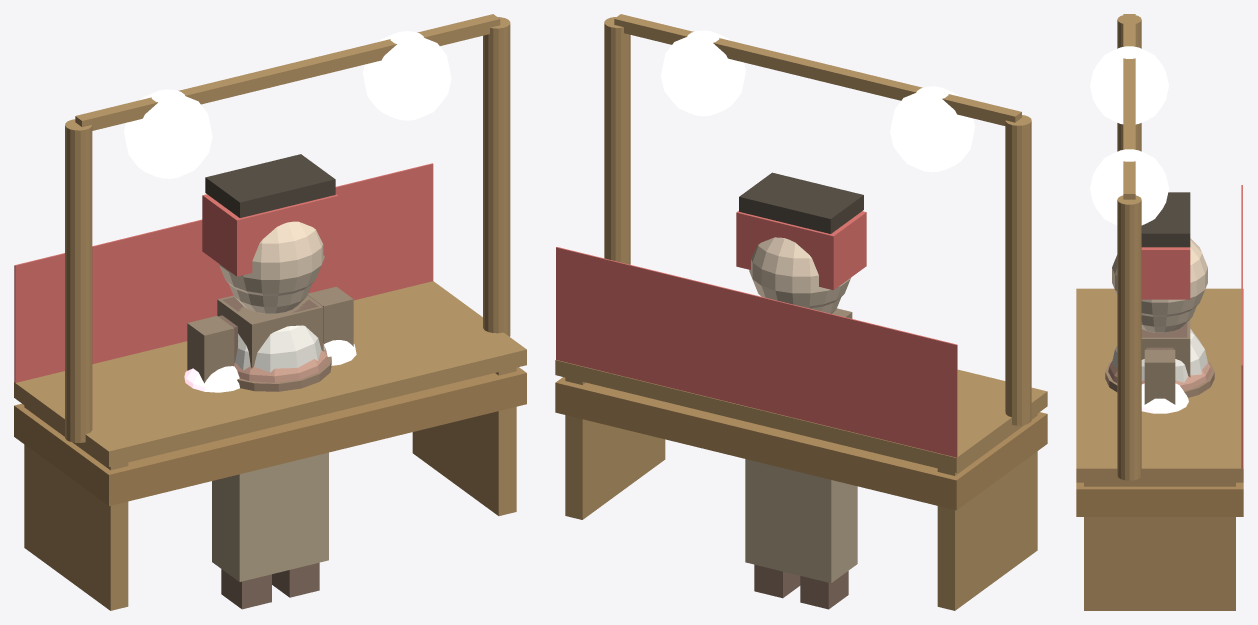
The picture shows the model from 3 angles, left to right: view 1: azimuth 30°, elevation 25°; view 2: azimuth 150°, elevation 25°; view 3: azimuth 270°, elevation 25°; orthographic projection. The views are drawn at different scales.
Visible parts, largest first — view 1: stall, customer_b, customer_a, item_rice, item_candy, item_sweetpotato, customer_c; view 2: stall, customer_b, customer_a; view 3: stall, customer_a, customer_b, item_rice, item_candy, customer_c, item_sweetpotato.
Boxes of the visible parts, x1=… form: stall: x1=14, y1=14, x2=526, y2=610; customer_b: x1=202, y1=194, x2=338, y2=581; customer_a: x1=187, y1=154, x2=353, y2=609; item_rice: x1=235, y1=325, x2=331, y2=391; item_candy: x1=184, y1=340, x2=356, y2=392; item_sweetpotato: x1=234, y1=347, x2=328, y2=382; customer_c: x1=229, y1=284, x2=311, y2=341; stall: x1=555, y1=14, x2=1047, y2=610; customer_b: x1=736, y1=211, x2=866, y2=583; customer_a: x1=739, y1=172, x2=863, y2=609; stall: x1=1076, y1=14, x2=1243, y2=610; customer_a: x1=1112, y1=192, x2=1207, y2=404; customer_b: x1=1141, y1=238, x2=1201, y2=350; item_rice: x1=1105, y1=329, x2=1214, y2=397; item_candy: x1=1141, y1=383, x2=1188, y2=413; customer_c: x1=1141, y1=306, x2=1196, y2=332; item_sweetpotato: x1=1108, y1=361, x2=1211, y2=390.
Bounding box in the file's own units: 1.48 × 1.73 × 0.55.
